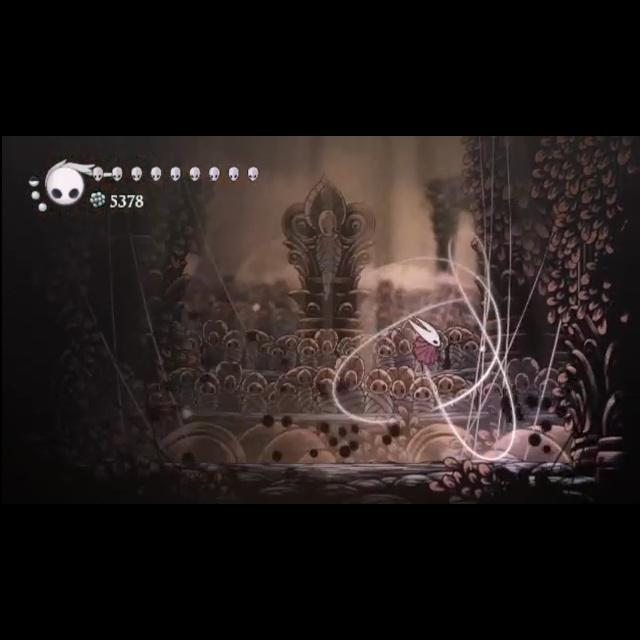EnemyAirAttack: (394, 313, 460, 382)
Player: (495, 379, 535, 426)
